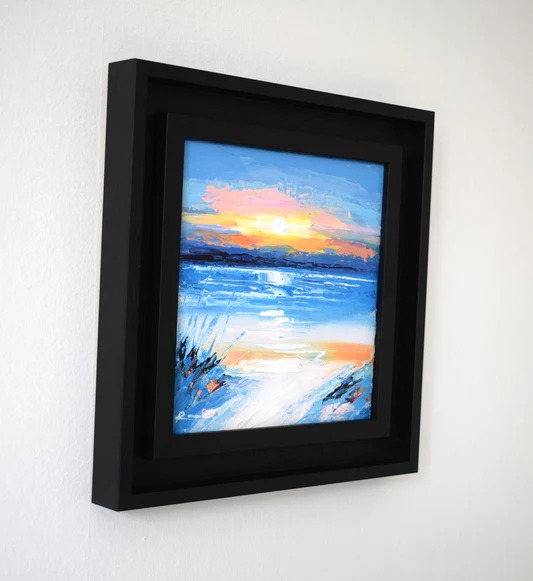painting: (173, 139, 383, 434)
